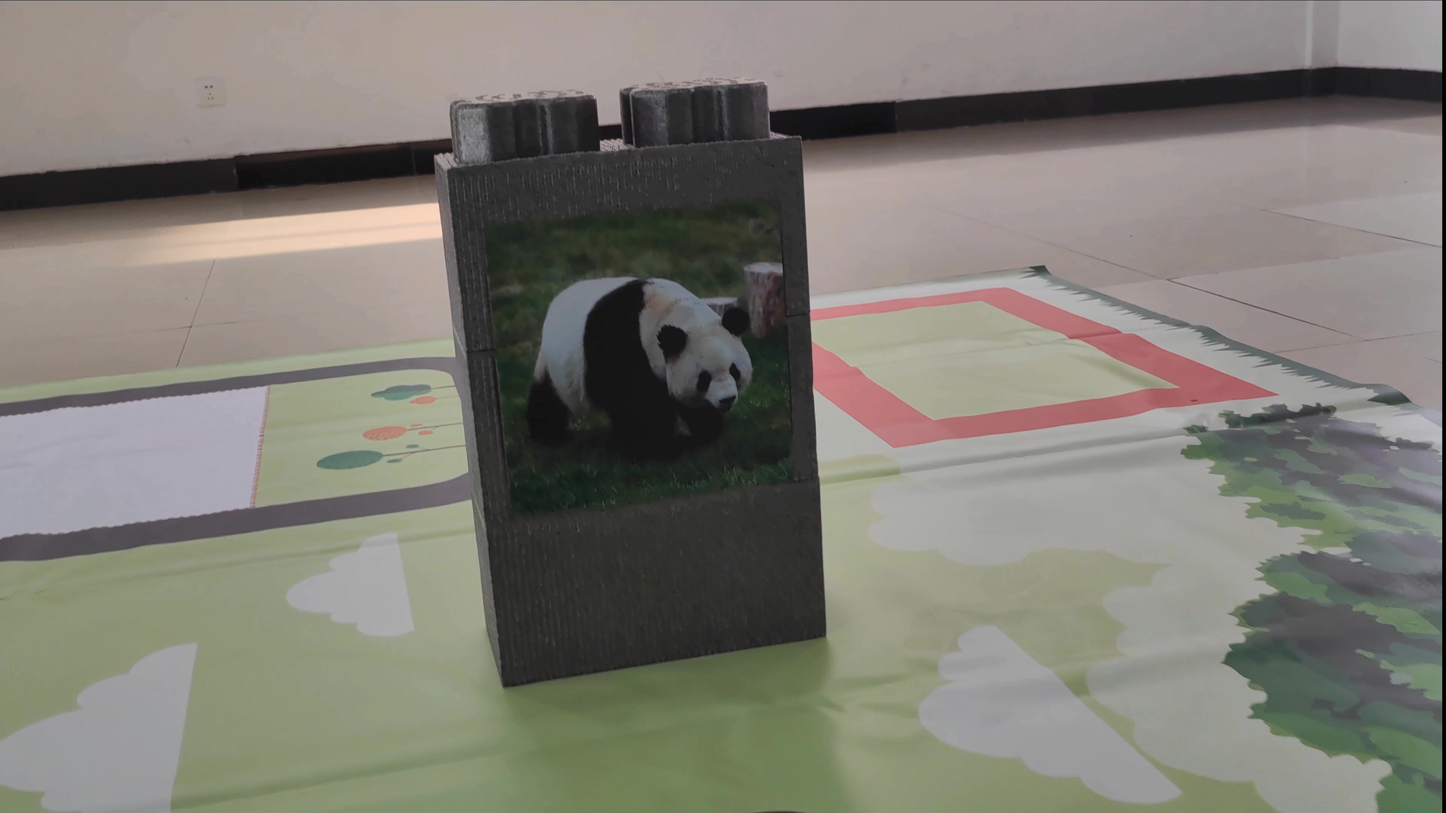panda: (507, 254, 769, 464)
